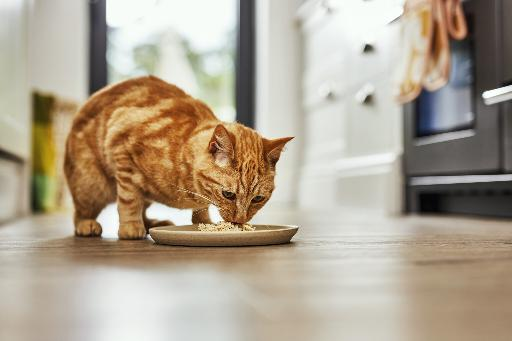cat_eating: (64, 76, 298, 246)
